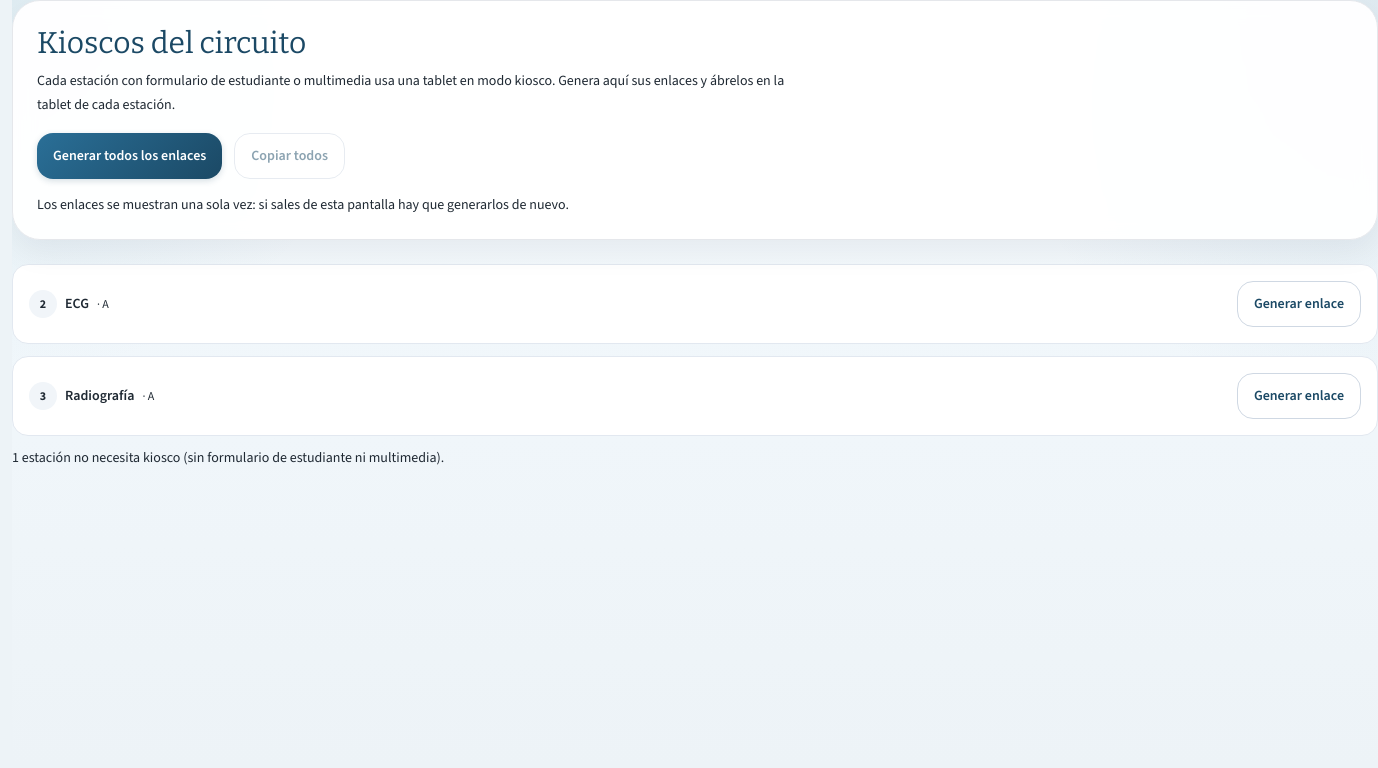
Scenario: Kioscos › informa la estación que falló sin ocultar las que sí se generaron
Expected: the text "ECG" is shown, [65,294,89,314]
Click the button "Generar todos los enlaces": (130, 156) [37,133,222,179]
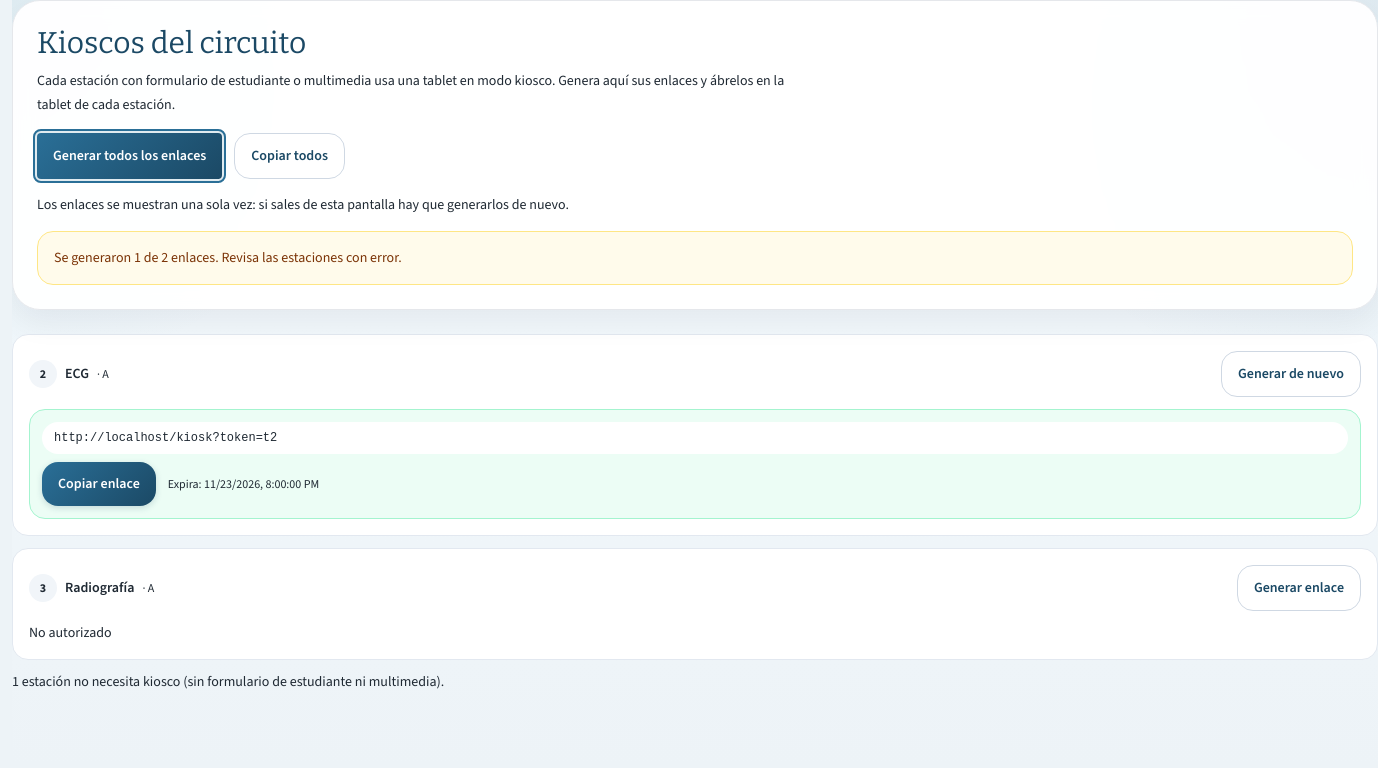
Now the message "No autorizado" is shown, box [29,623,112,642]
Now the text "http://localhost/kiosk?token=t2" is shown, box [42,422,1348,454]
Now the text "Se generaron 1 de 2 enlaces. Revisa las estaciones con error." is shown, box [37,231,1353,285]
